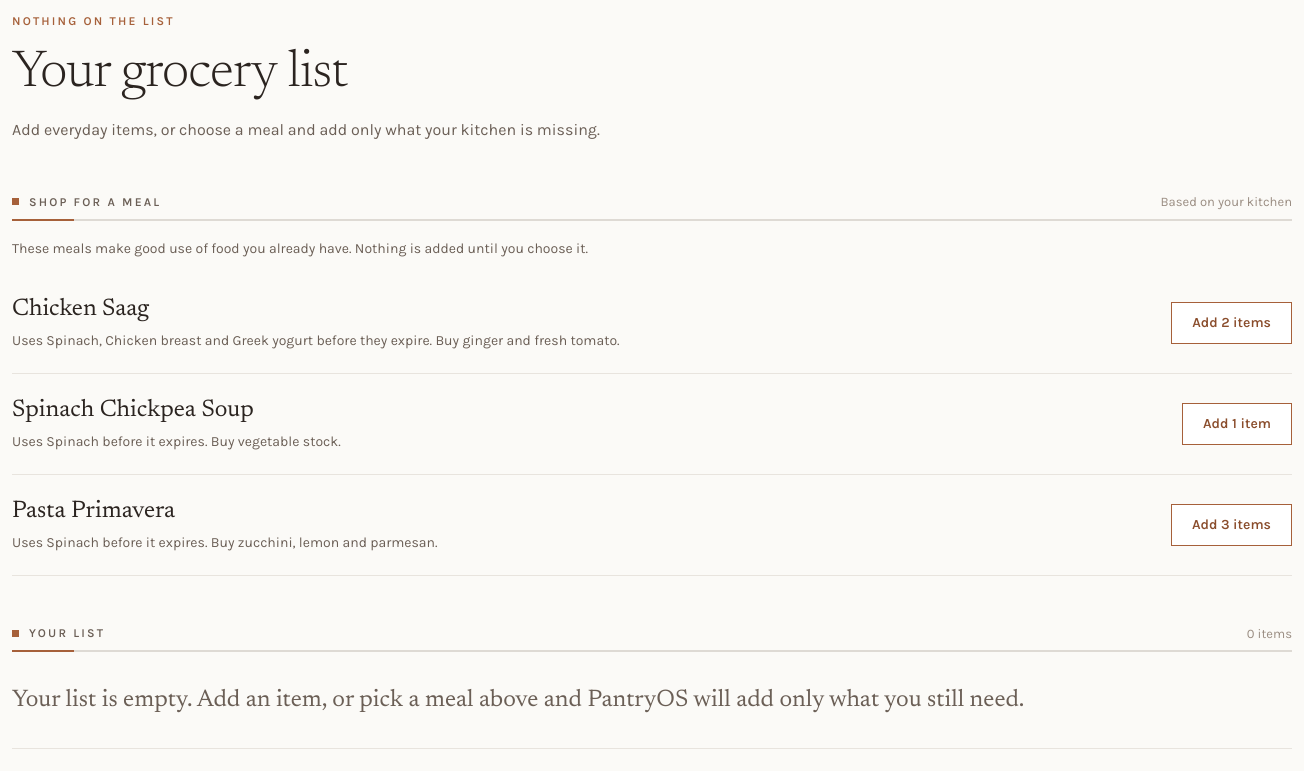
Test: GroceriesPage › suggests a meal and adds only its missing ingredients
Click the button "Add 2 items".
click(1232, 322)  # box [1171, 302, 1292, 344]
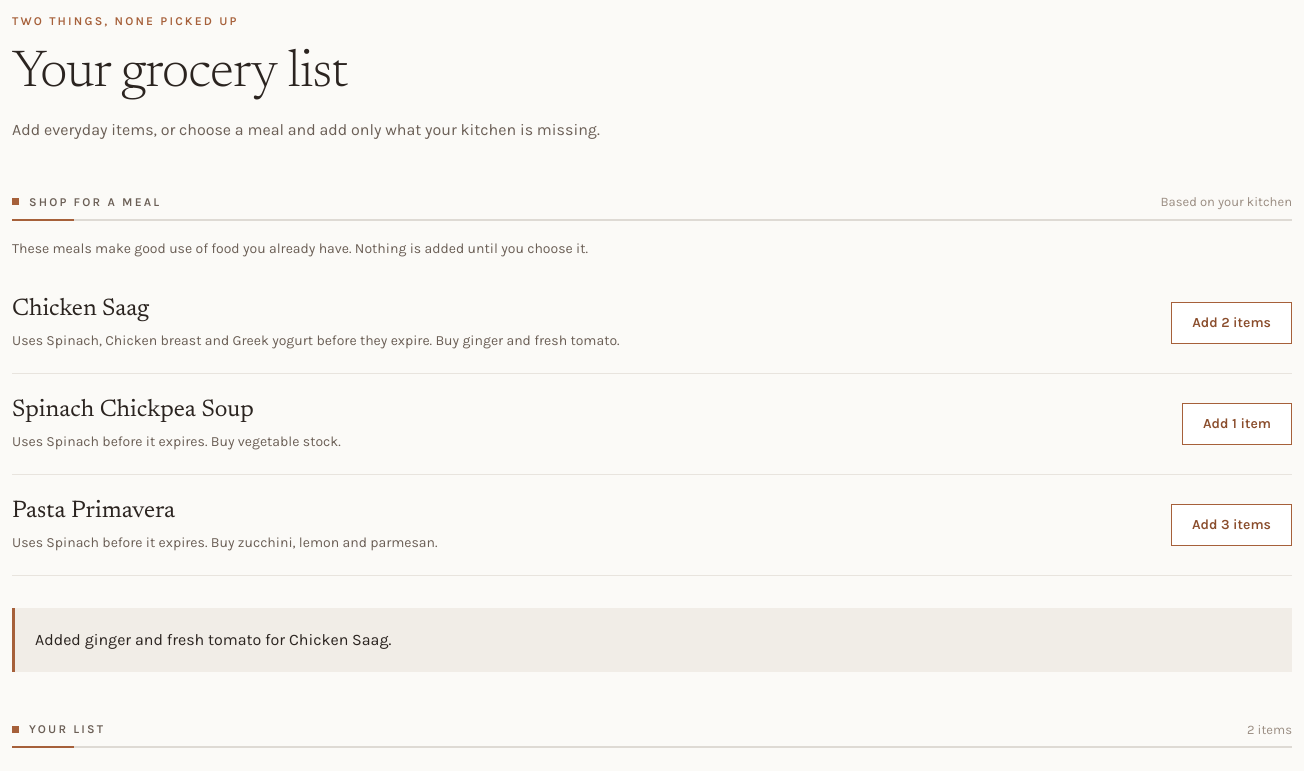
Result: the text "Added ginger and fresh tomato for Chicken Saag." is shown at [12, 608, 1292, 672]
